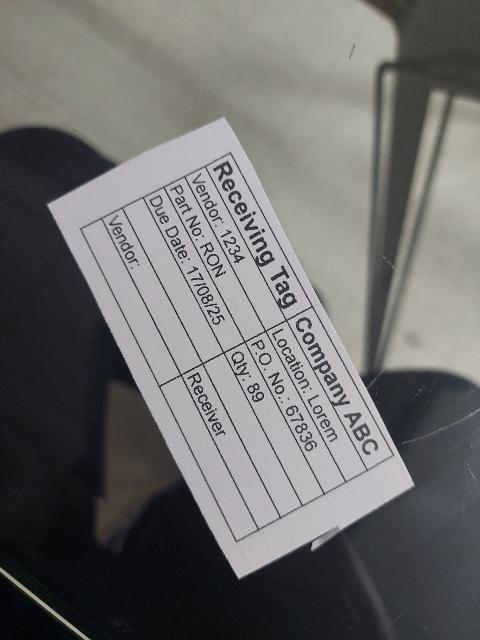PO no: (244, 332, 345, 495)
part no: (163, 176, 267, 343)
qty: (223, 342, 324, 507)
tags: (50, 121, 413, 577)
